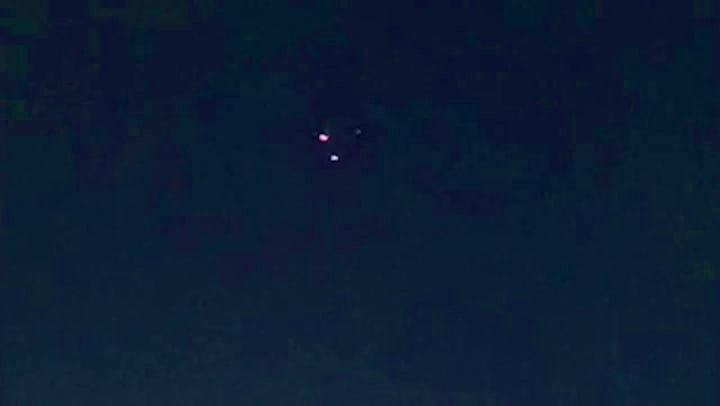Plane: (307, 114, 364, 181)
